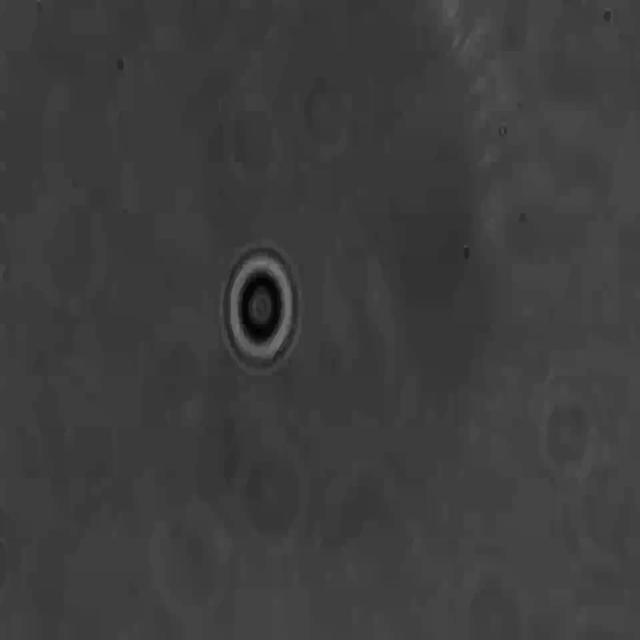LCELL: (219, 242, 305, 381)
